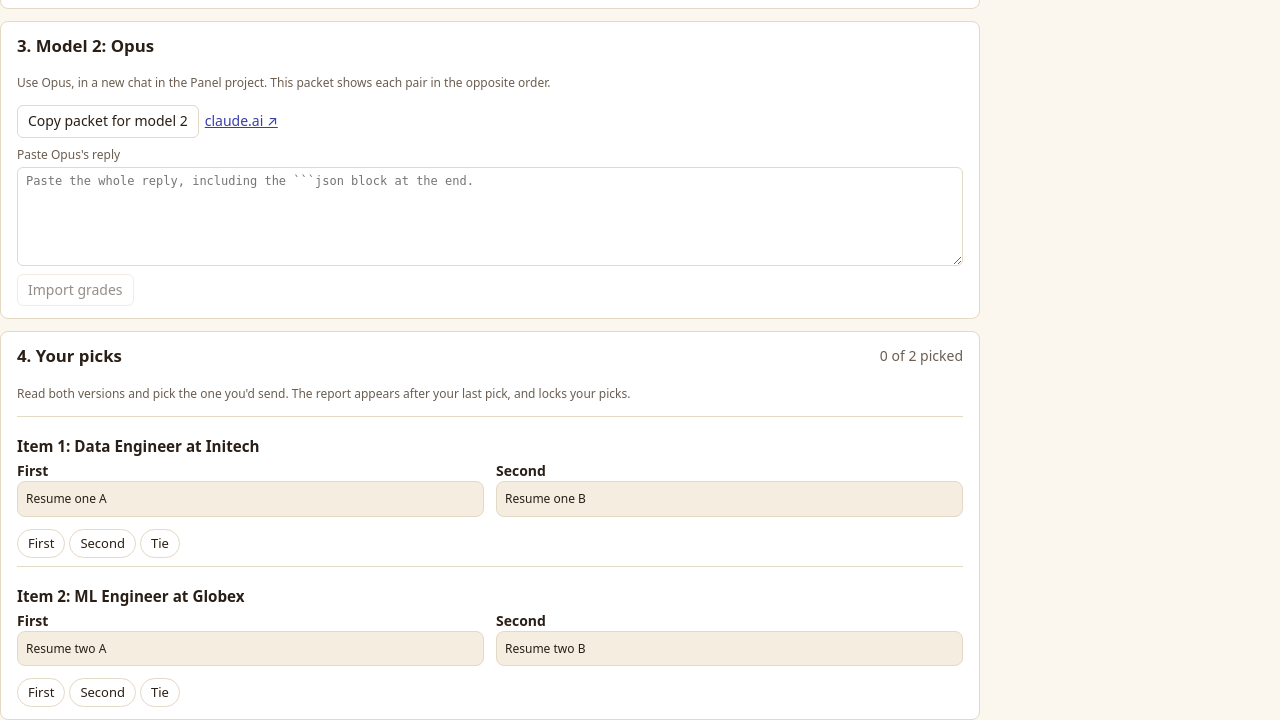
Test case: PanelPage › takes your blind picks and shows the report after the last one
(page scrolled)
Expected: the text "Resume one A" is shown, x1=17 y1=481 x2=484 y2=517
Expected: the text "Resume one B" is shown, x1=496 y1=481 x2=963 y2=517
Click the button "Second" below "Resume one A" at (103, 543), box x1=69 y1=529 x2=136 y2=558
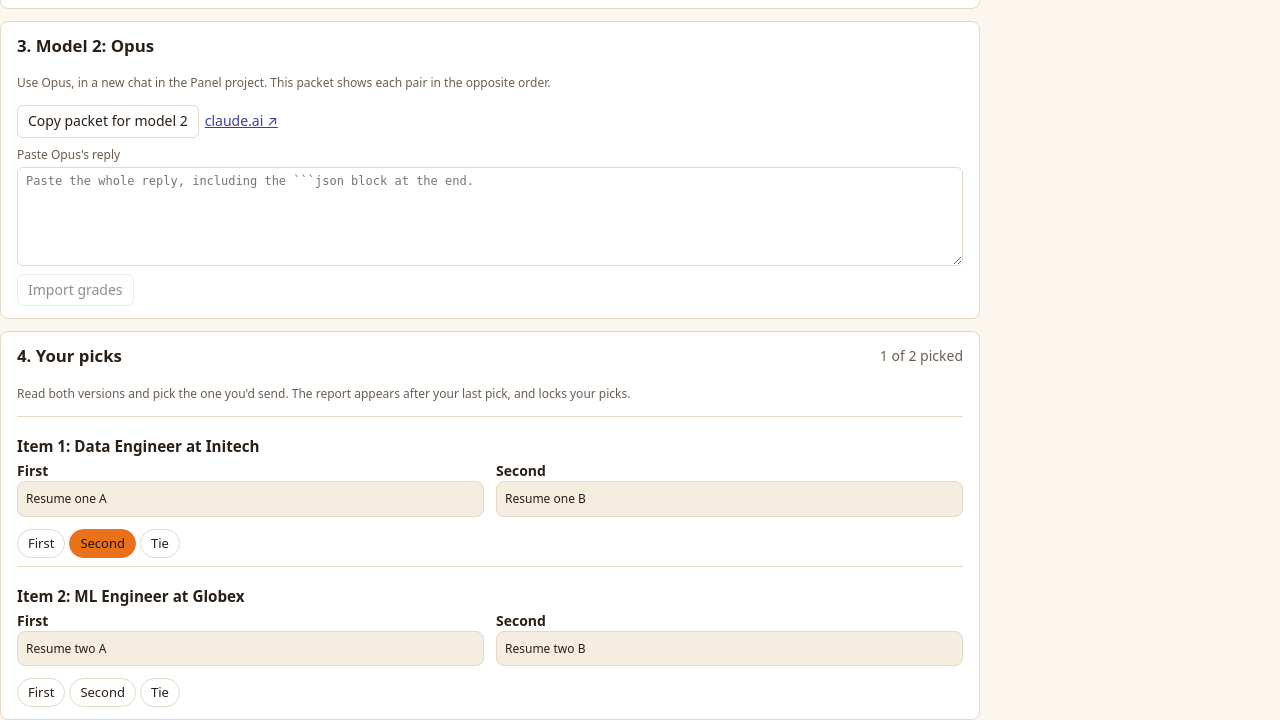
Click the button "First" below "Resume two A" at (41, 693), box x1=17 y1=678 x2=65 y2=707
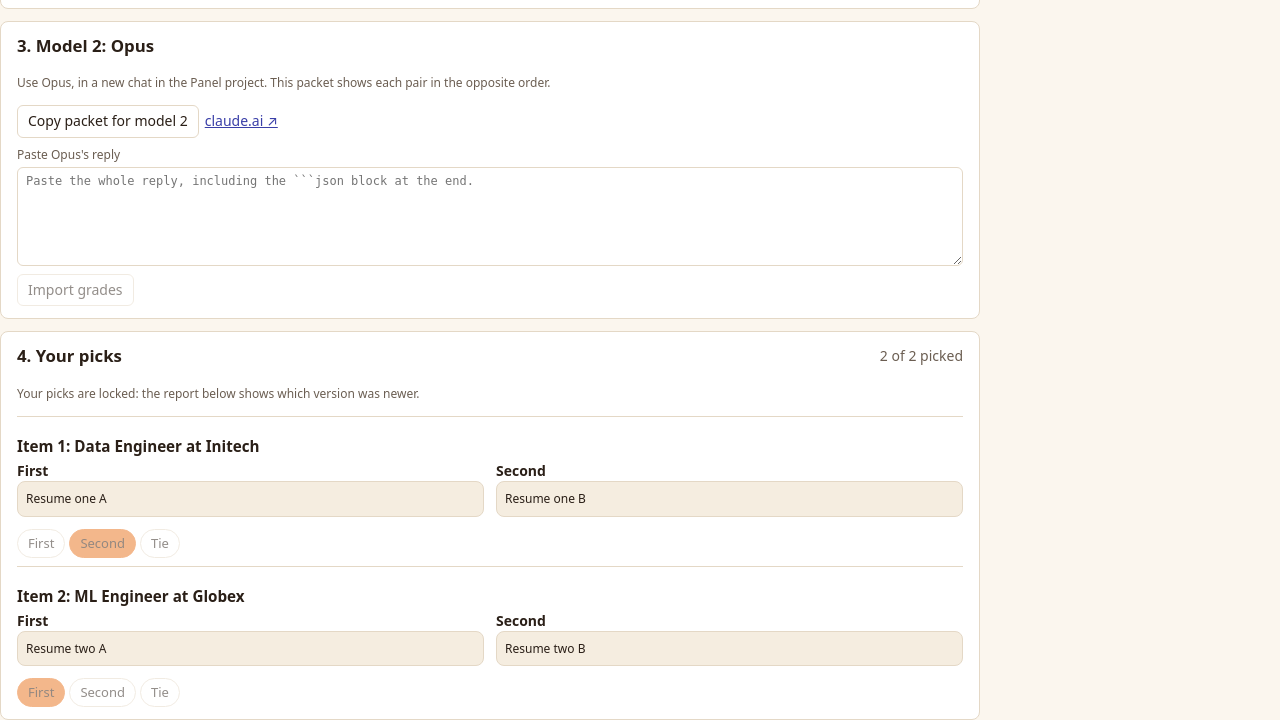
Result: the button "First" below "Resume one A" is disabled at x1=17 y1=529 x2=65 y2=558
Result: the text "Your picks are locked" is shown at x1=17 y1=385 x2=419 y2=402
